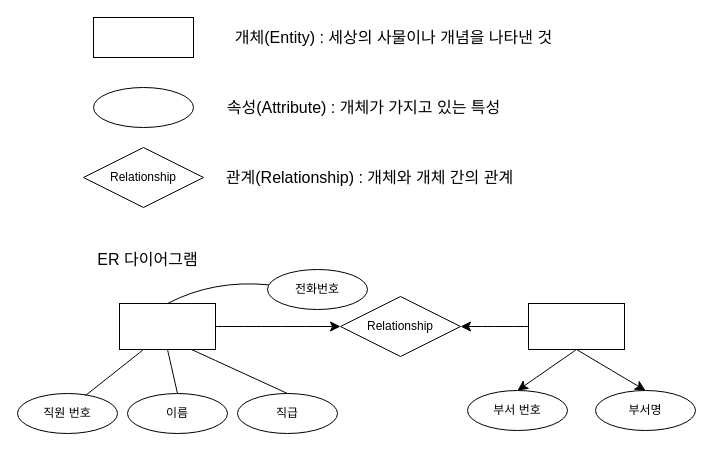
Some shapes in this 713 by 451 pixel diagram are drawn without their labels. The shapes that lost their labels are listed below. From the top down, each one's centre as x and y in pixels, then its label:
the point at 143,37: Entity
the point at 143,107: Attribute
the point at 167,326: 직원
the point at 576,326: 부서
